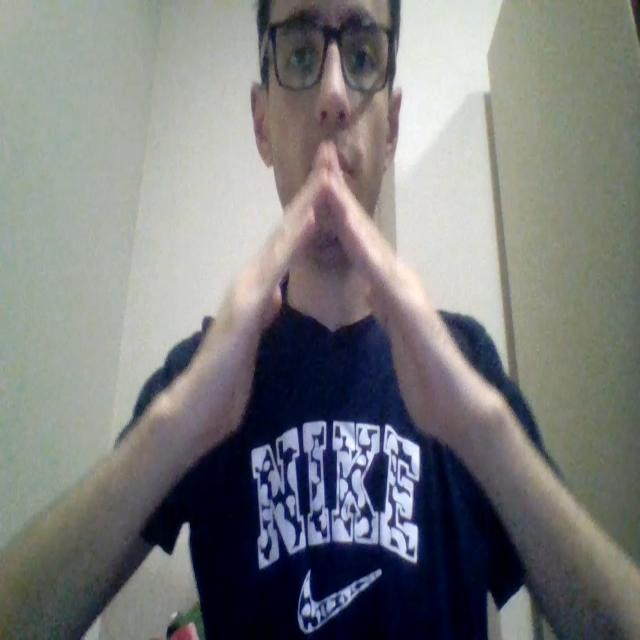house: (155, 140, 476, 460)
